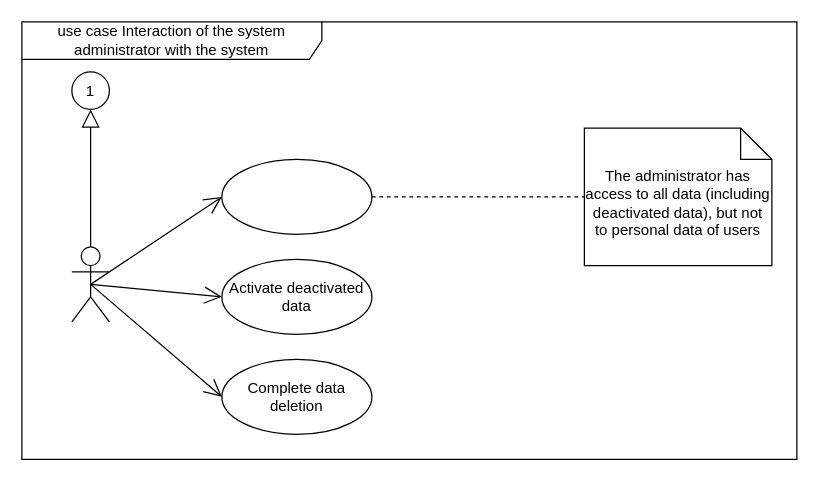
The diagram is 819 pixels wide and 481 high, and some of its shapes have lost their labels. Here are the shapes that lost their labels. From the top down, the centre of each, then its label:
point 296,196: View data
point 90,284: Administrator systems
